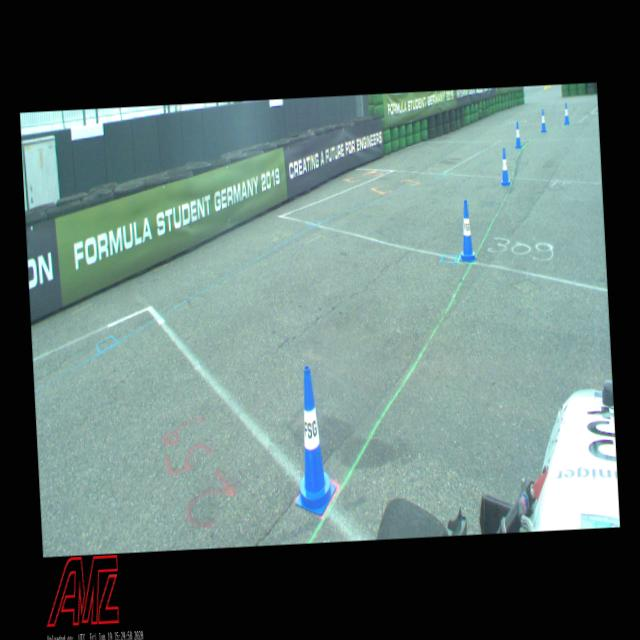blue_cone: (289, 366, 337, 516), (457, 200, 477, 262), (500, 147, 510, 185), (514, 122, 522, 148), (540, 109, 547, 133), (563, 103, 570, 125)
